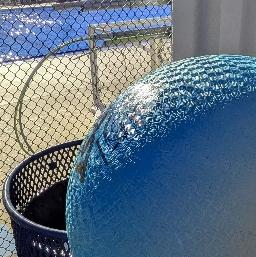algae: (70, 57, 256, 257)
